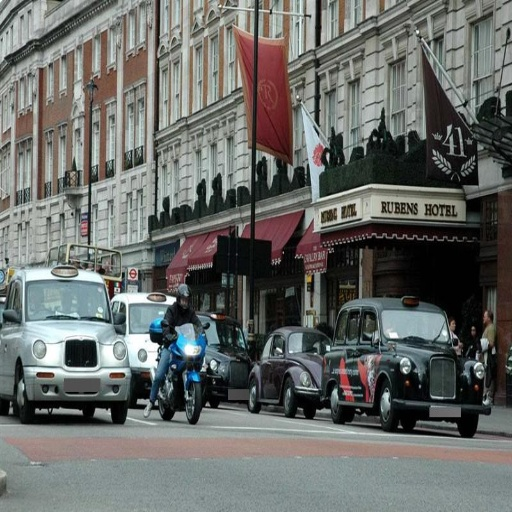back_bumper: (11, 327, 159, 401)
trunk: (25, 304, 99, 361)
